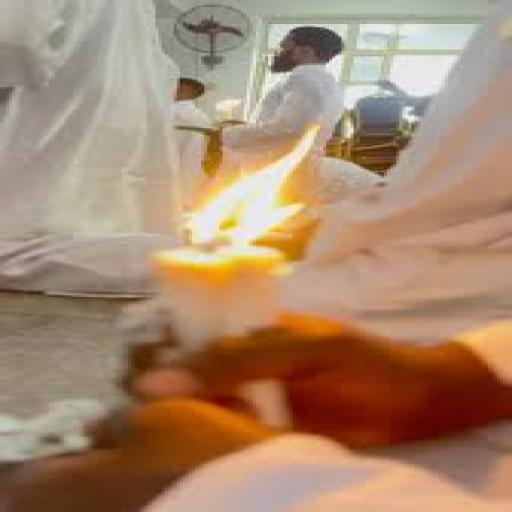fire: (180, 123, 317, 258)
